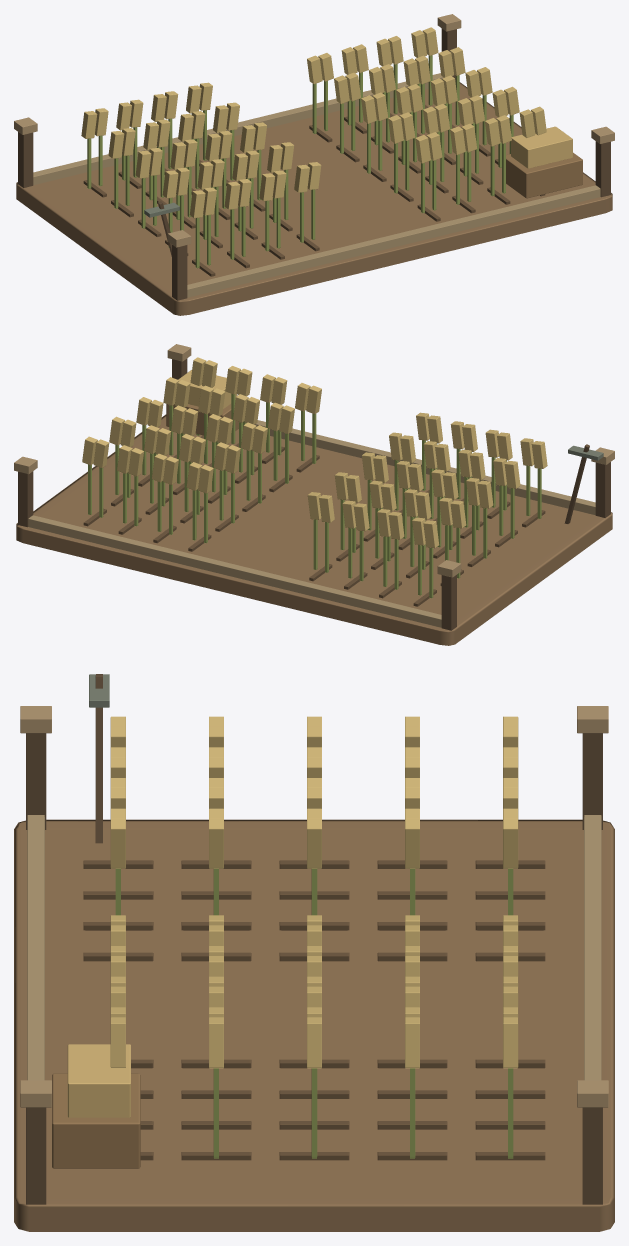
File: wheatfield-2.glb
The picture shows the model from 3 angles, top to bottom: view 1: azimuth 30°, elevation 25°; view 2: azimuth 150°, elevation 25°; view 3: azimuth 270°, elevation 25°; orthographic projection. The views are drawn at different scales.
Visible parts, largest first — view 1: wheatfield-2-0, crop-patch; view 2: wheatfield-2-0, crop-patch; view 3: wheatfield-2-0, crop-patch.
Part boxes in pixels (x1,y1,x2,y2): wheatfield-2-0: (14, 14, 614, 315); crop-patch: (81, 27, 546, 268); wheatfield-2-0: (14, 344, 614, 645); crop-patch: (82, 357, 547, 598); wheatfield-2-0: (14, 674, 614, 1231); crop-patch: (110, 716, 518, 1158).
Size of the model in its own units: 2.95 by 0.6136 by 1.9.
